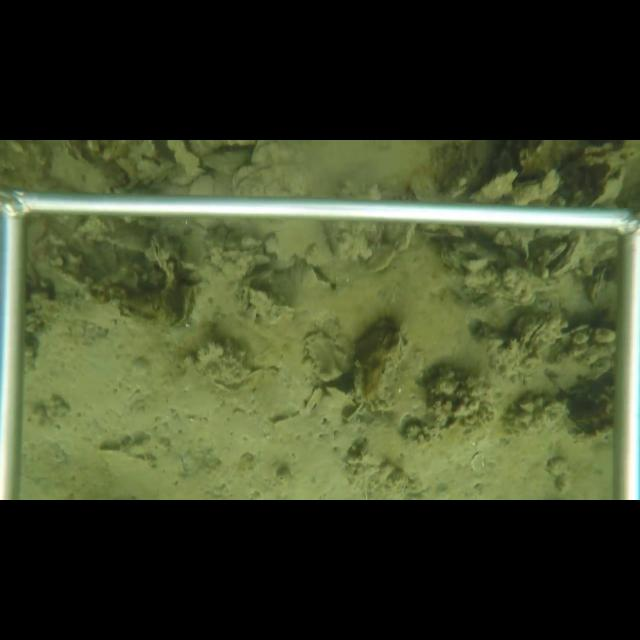Oyster-Closed: (355, 317, 413, 414), (466, 168, 518, 203), (548, 233, 586, 278), (148, 230, 175, 290), (582, 263, 608, 308)
Oyster-Open: (163, 285, 202, 332), (586, 166, 628, 207), (521, 318, 550, 353)
